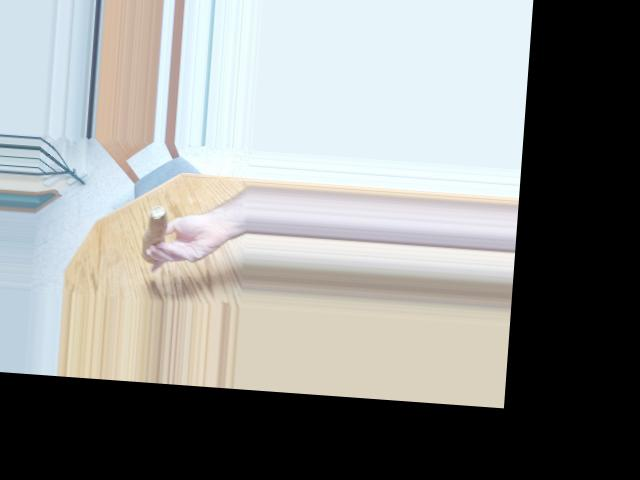sweet_potato: (141, 214, 170, 261)
